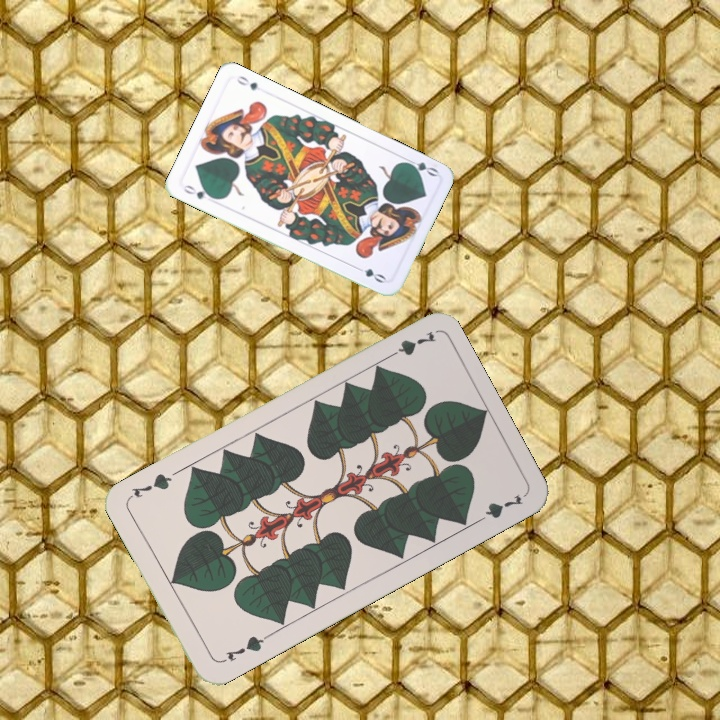G7: (381, 327, 439, 363), (216, 630, 271, 666)
GO: (400, 154, 440, 179), (179, 181, 218, 202)
